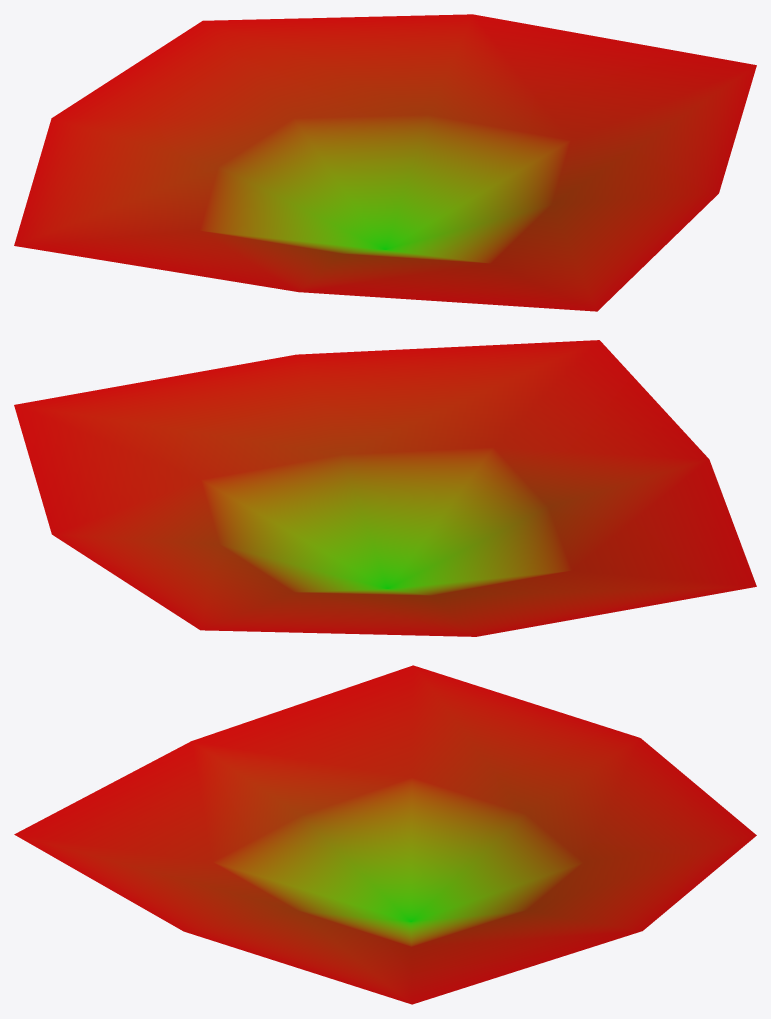
Rendered from Var15_LOD3.fbx.
The picture shows the model from 3 angles, top to bottom: view 1: azimuth 30°, elevation 25°; view 2: azimuth 150°, elevation 25°; view 3: azimuth 270°, elevation 25°; orthographic projection. The views are drawn at different scales.
Visible parts, largest first — view 1: _q4vw_Var15_LOD3; view 2: _q4vw_Var15_LOD3; view 3: _q4vw_Var15_LOD3.
Part boxes in pixels (<box>): _q4vw_Var15_LOD3: <box>14,14,756,311</box>; _q4vw_Var15_LOD3: <box>14,340,756,636</box>; _q4vw_Var15_LOD3: <box>14,665,756,1004</box>.
Size of the model in its own units: 20.63 by 2.47 by 19.09.
